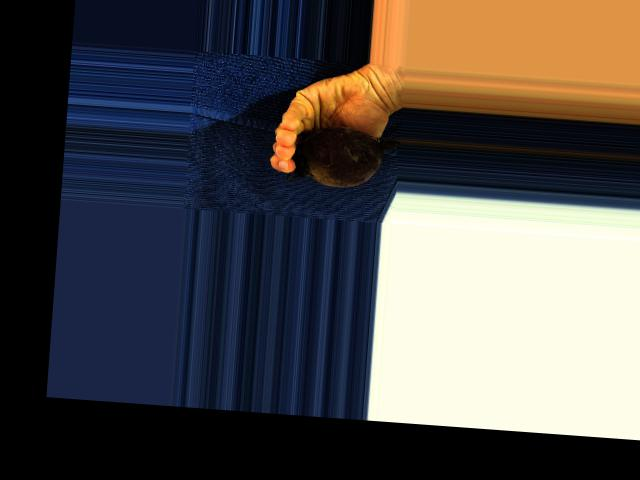beet: (284, 121, 400, 190)
